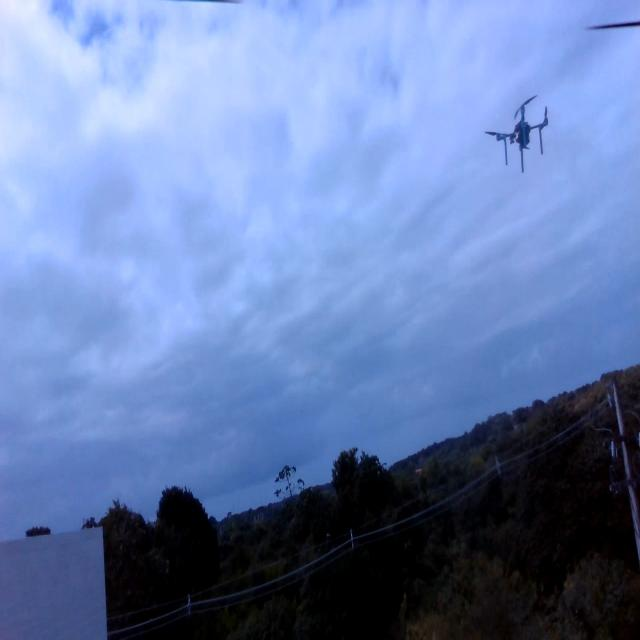-uav-: (482, 86, 556, 191)
